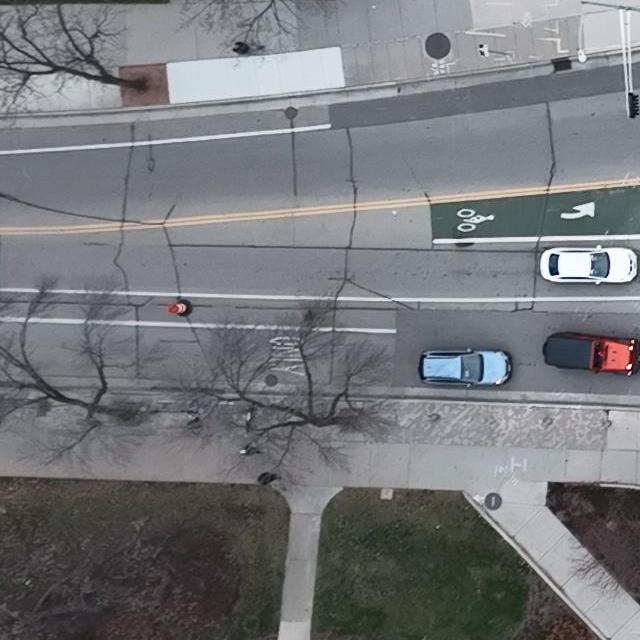car: (543, 332, 640, 376), (538, 245, 639, 287), (418, 347, 514, 388)
